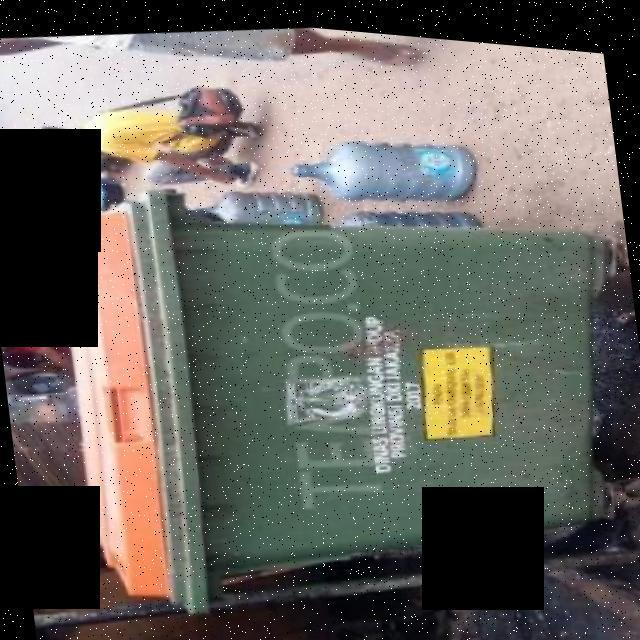bin: (40, 119, 640, 640)
